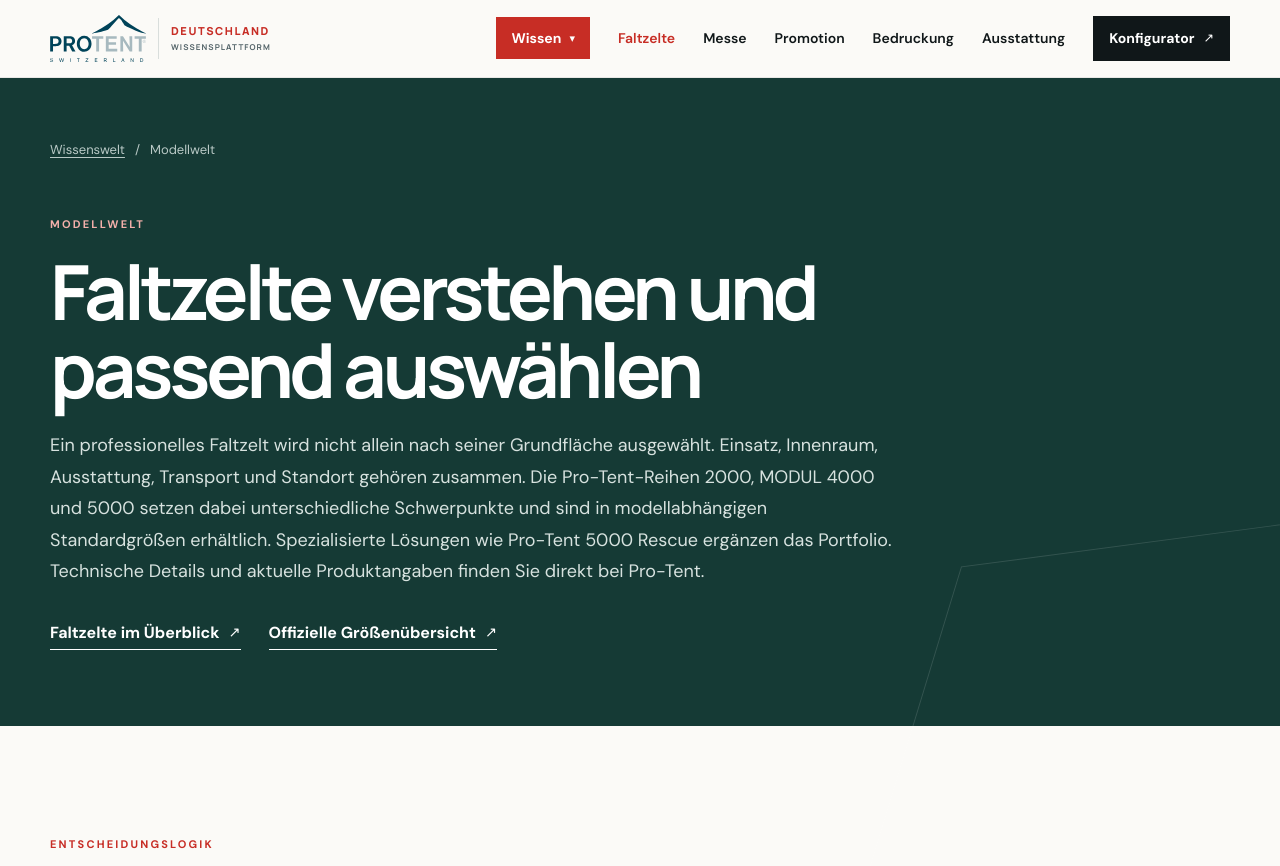
Test case: routing › bietet Wissen gut sichtbar mit allen Hubs und einer Gesamtübersicht an
Click the button "Wissen": (543, 38) [496, 18, 590, 60]
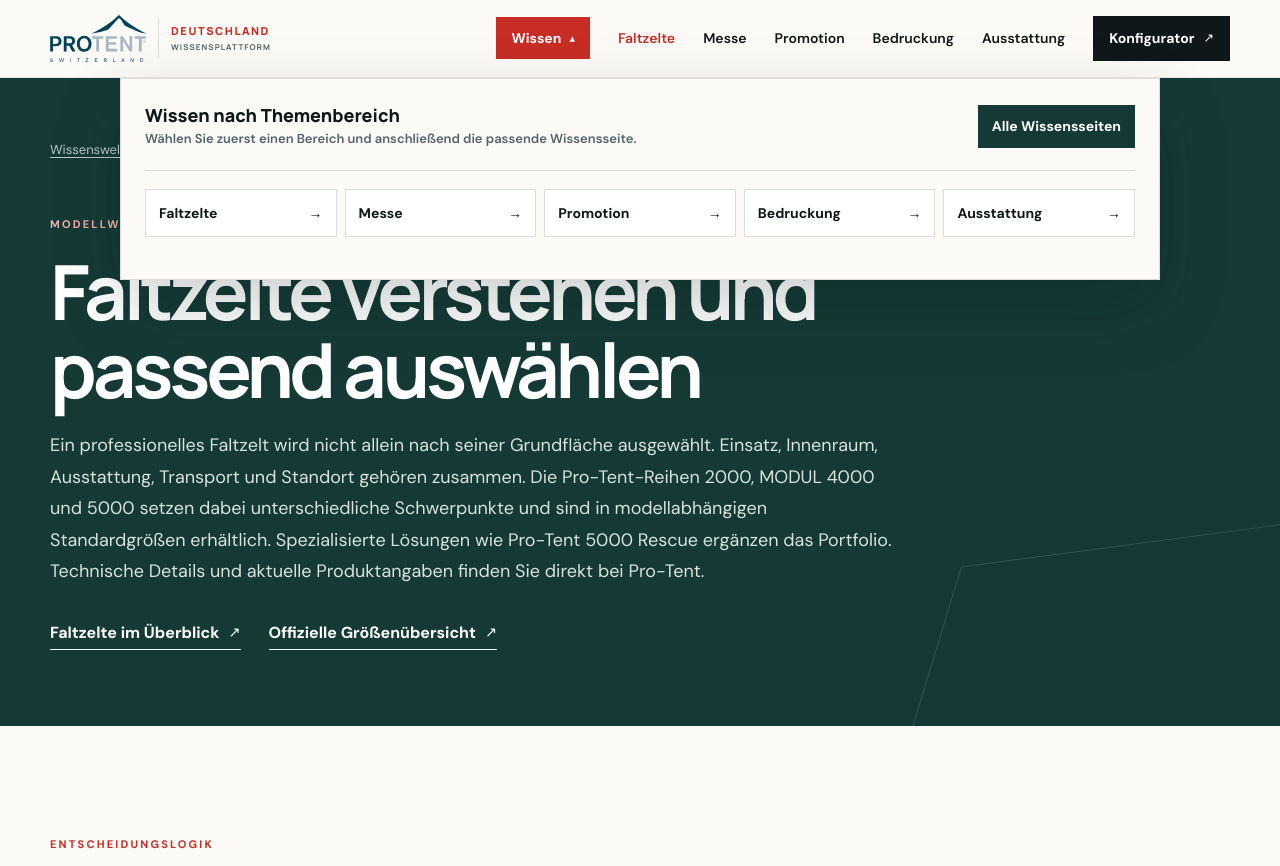
Expected: the navigation bar named "Hauptnavigation" shows "Faltzelte", [145, 189, 337, 237]
Expected: the navigation bar named "Hauptnavigation" shows "Alle Wissensseiten", [978, 105, 1135, 148]
